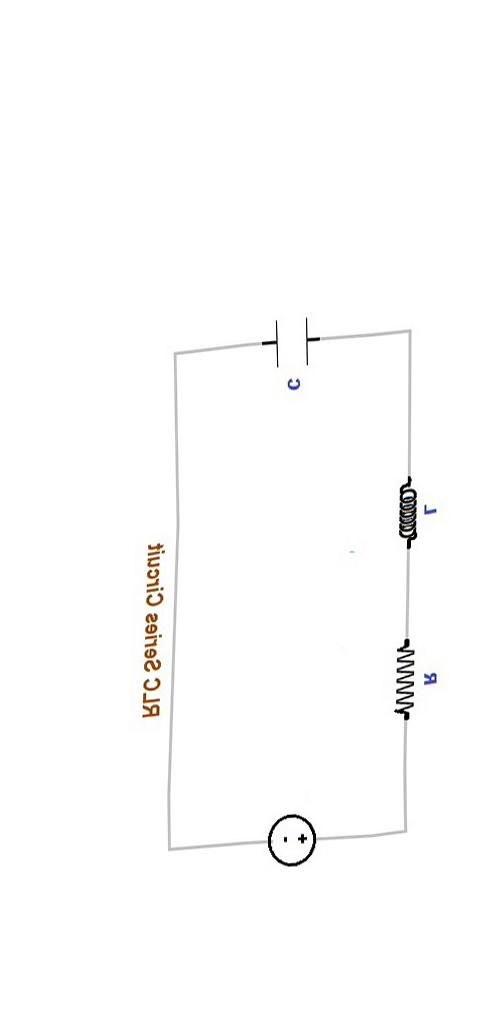Battery: (212, 784, 343, 907), (245, 784, 343, 913)
